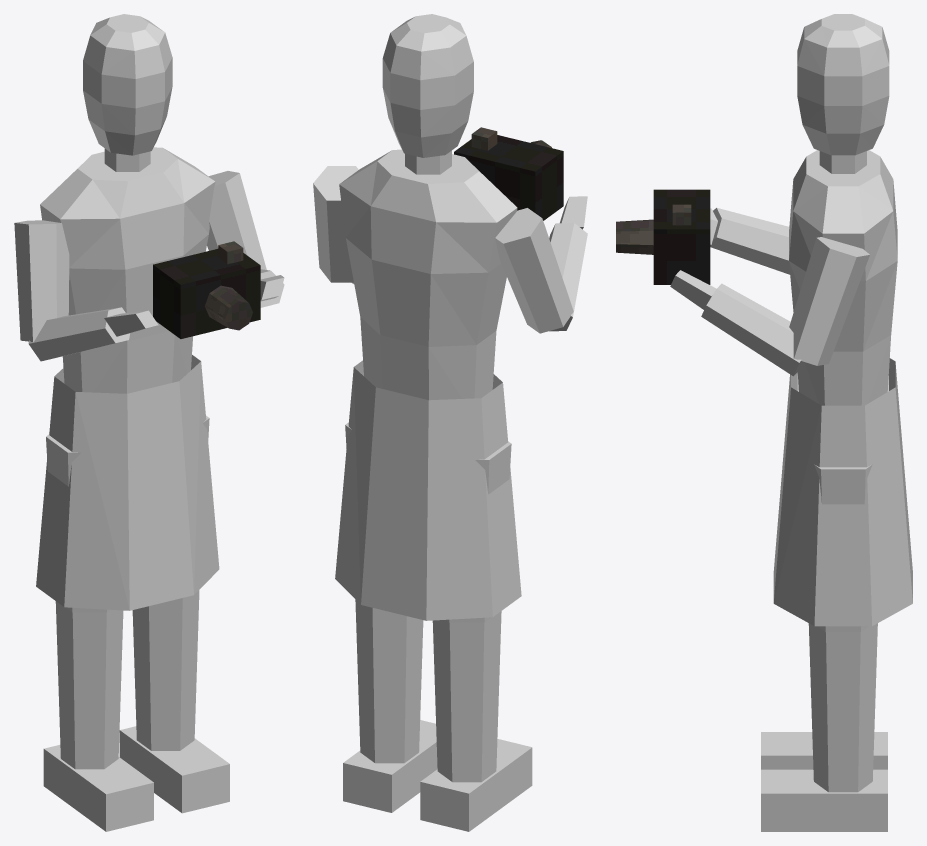
Rendered from fotografo.obj.
3 renders of one model, left to right at view 1: azimuth 30°, elevation 25°; view 2: azimuth 150°, elevation 25°; view 3: azimuth 270°, elevation 25°, orthographic.
Parts seen in each view (by area): view 1: fotografo; view 2: fotografo; view 3: fotografo.
Part boxes in pixels (left/top/right/bottom): fotografo: left=14, top=14, right=284, bottom=831; fotografo: left=313, top=14, right=587, bottom=831; fotografo: left=616, top=14, right=912, bottom=831.
Size of the model in its own units: 0.6038 by 1.83 by 0.6305.
Materials: 3 (2 with a texture image).
